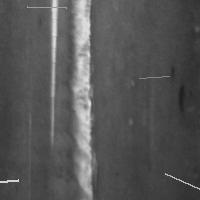scratches: (66, 1, 95, 199), (47, 1, 60, 150), (160, 168, 200, 197), (22, 2, 71, 13), (134, 71, 174, 83), (0, 175, 23, 194), (176, 82, 188, 111)
